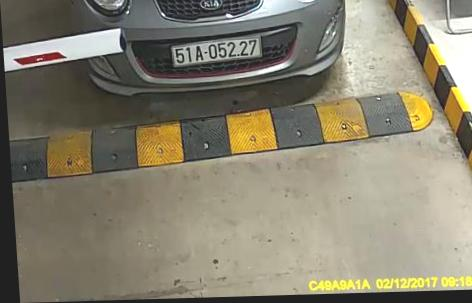License_Plate: (171, 35, 264, 65)
